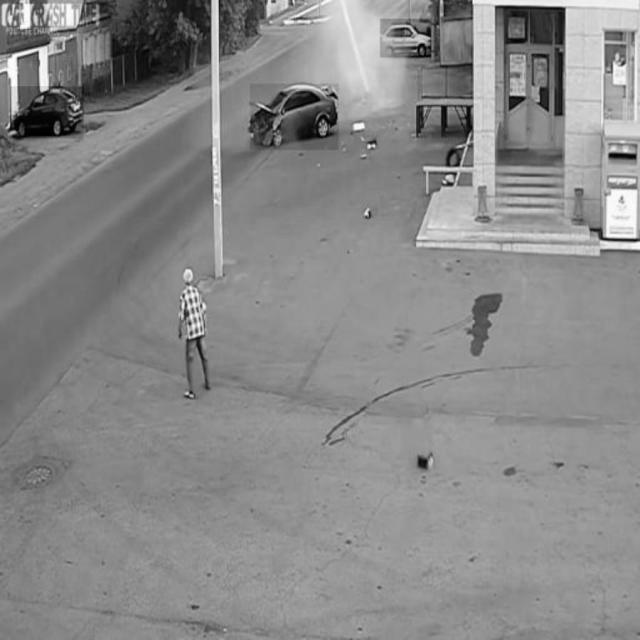person: (176, 264, 212, 402)
vehicle: (251, 84, 339, 150), (11, 87, 84, 139), (380, 19, 431, 57)
